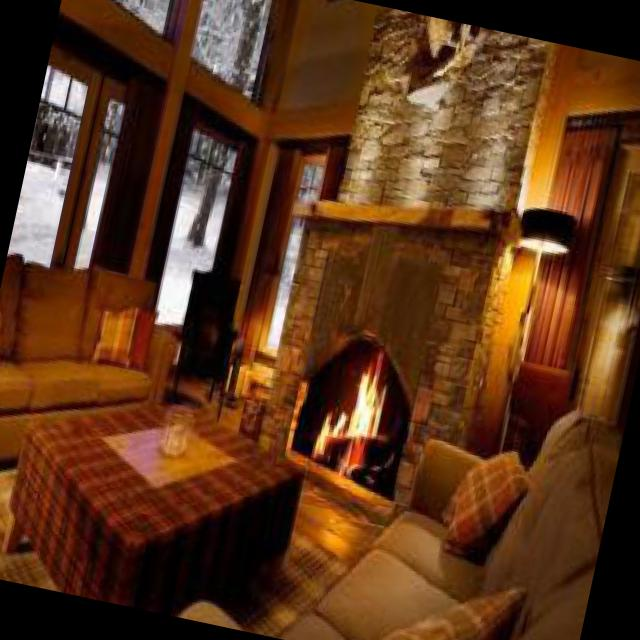fire: (304, 351, 401, 480)
